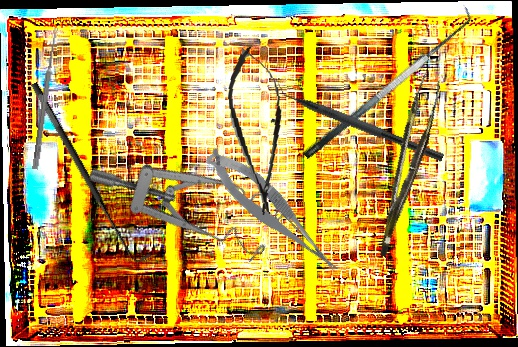Chopper: (269, 75, 449, 163)
Hook Surgical: (27, 73, 153, 270)
Micro Scissor: (199, 135, 345, 290), (223, 44, 293, 218)
Spatula Surgical: (291, 3, 481, 161)
Speculum: (85, 95, 297, 294)
Surgical Spoon: (32, 27, 59, 170)
Tissue Forceps: (357, 72, 453, 258)
